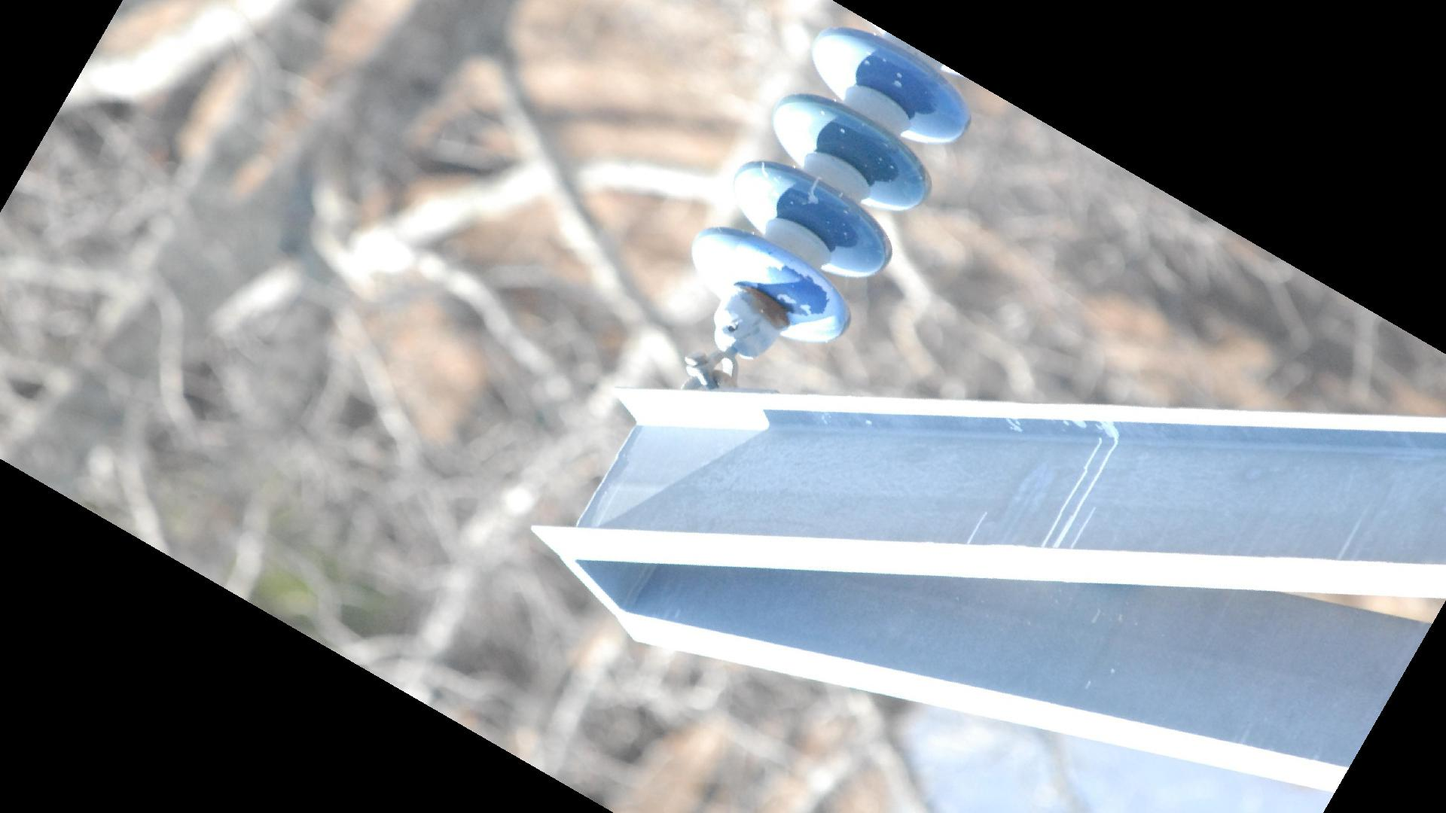insulator: (685, 19, 976, 351)
insulator_flashover: (745, 260, 832, 321)
